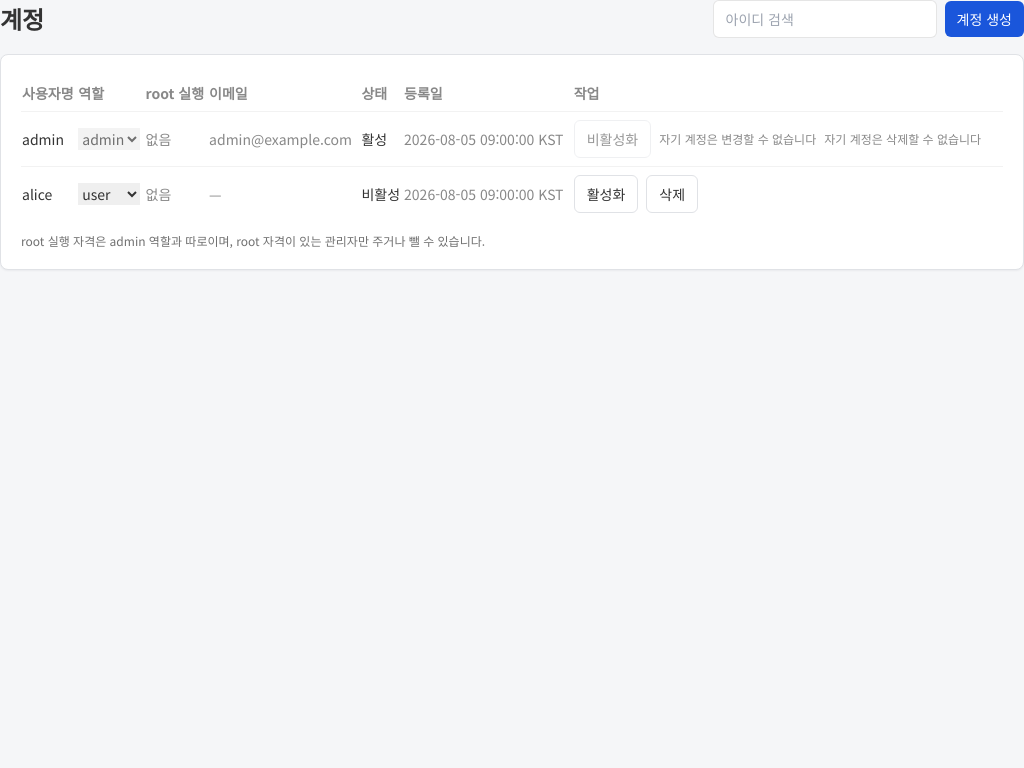
Test: 운영자 계정 생성: 중복 409 는 다이얼로그 안 한국어 사유로 남는다
Check: the text "alice" is shown, box 21,166 -> 77,221
Click the button "계정 생성".
click(984, 19)  # box 944,1 -> 1023,37
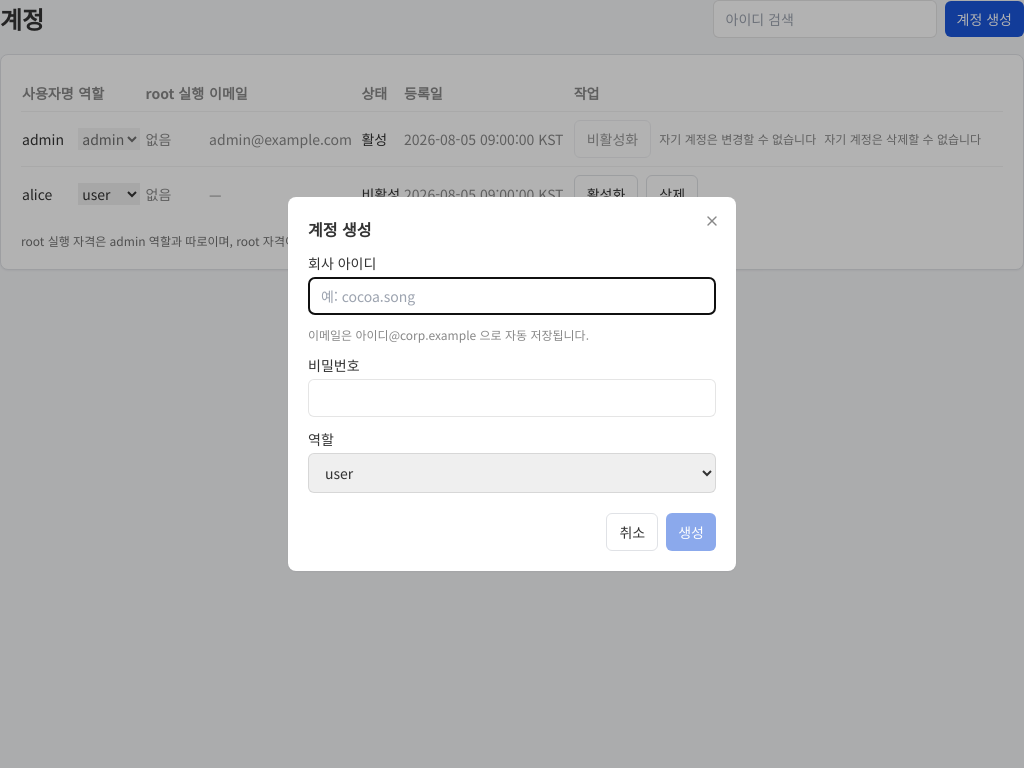
Type "alice" into the field labelled "회사 아이디".
click(512, 296); type("alice")  # box 308,277 -> 716,315
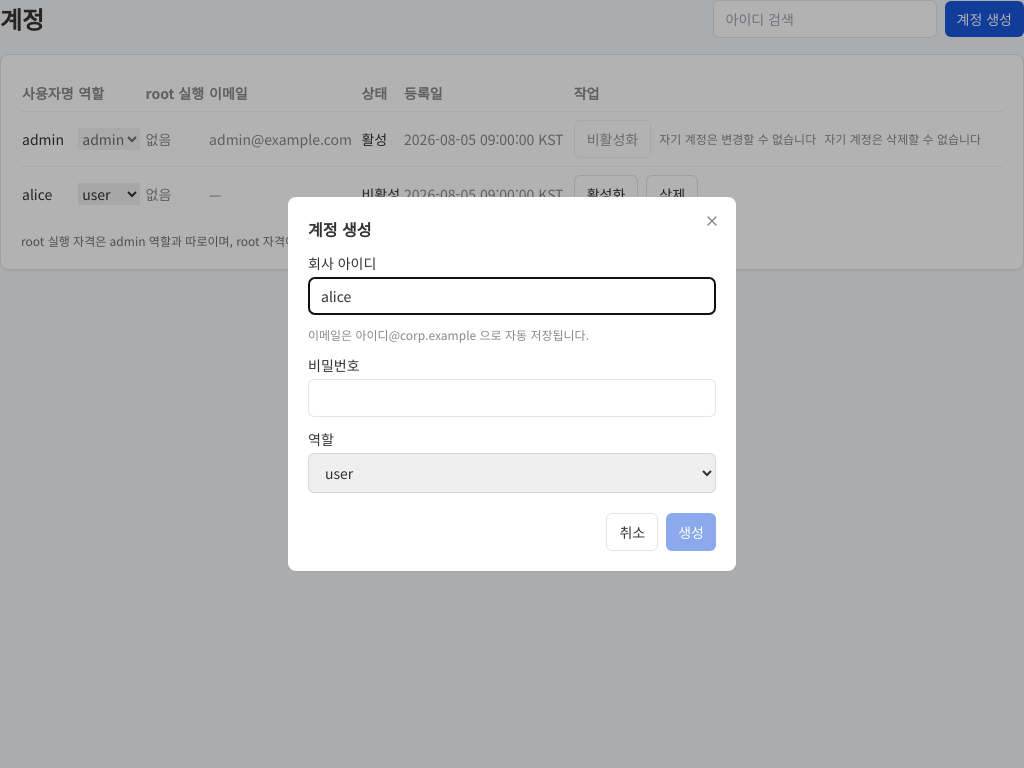
Type "pw" into the password field labelled "비밀번호".
click(512, 398); type("pw")  # box 308,379 -> 716,417
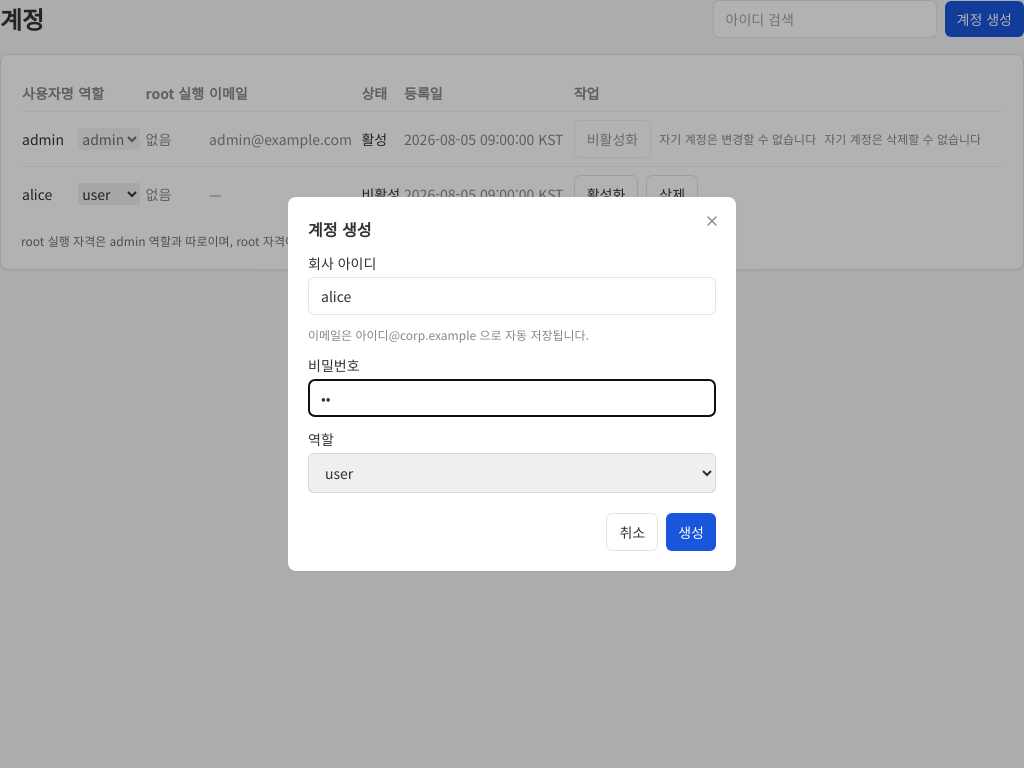
Click the button "생성".
click(691, 532)  # box 666,513 -> 716,551
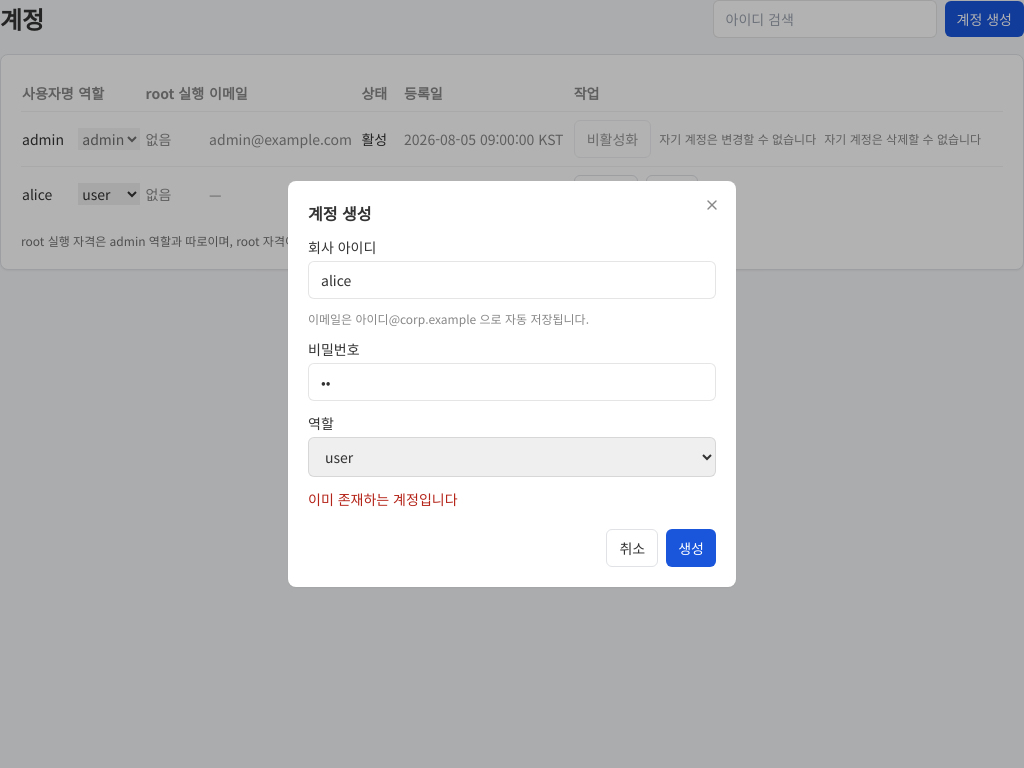
Check: the text "이미 존재하는 계정입니다" is shown, box 308,489 -> 458,509
